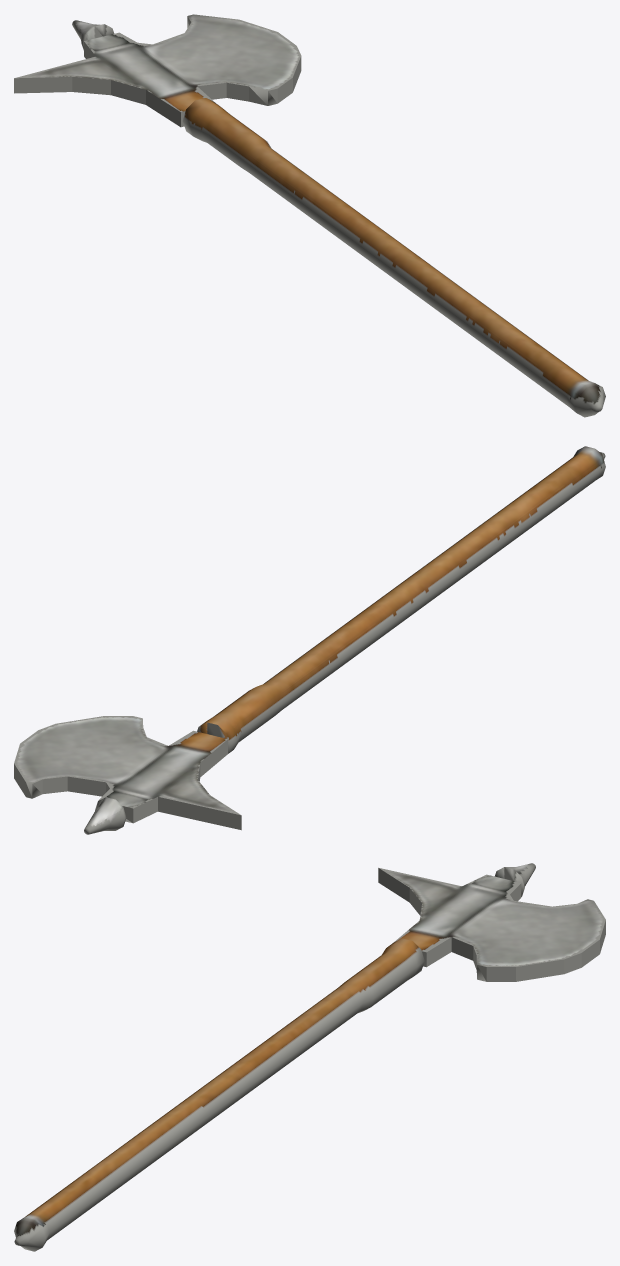
The model's file is item_mm9_10037.glb.
3 renders of one model, top to bottom at view 1: azimuth 30°, elevation 25°; view 2: azimuth 150°, elevation 25°; view 3: azimuth 330°, elevation 25°, orthographic. The views are drawn at different scales.
Visible parts, largest first — view 1: d10037; view 2: d10037; view 3: d10037.
Part boxes in pixels (x1,y1,x2,y2): d10037: (14, 14, 605, 417); d10037: (14, 446, 605, 834); d10037: (14, 863, 605, 1251).
Size of the model in its own units: 34.44 by 4.74 by 128.
Materials: 1 (1 with a texture image).
